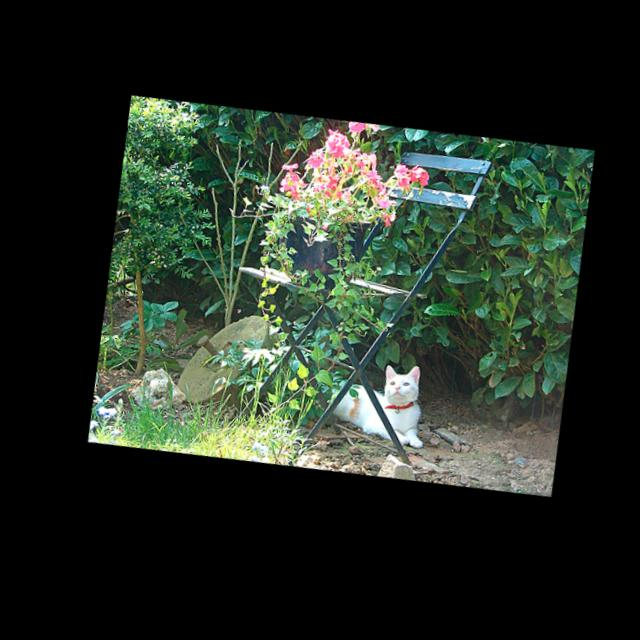animals: (379, 367, 416, 399)
